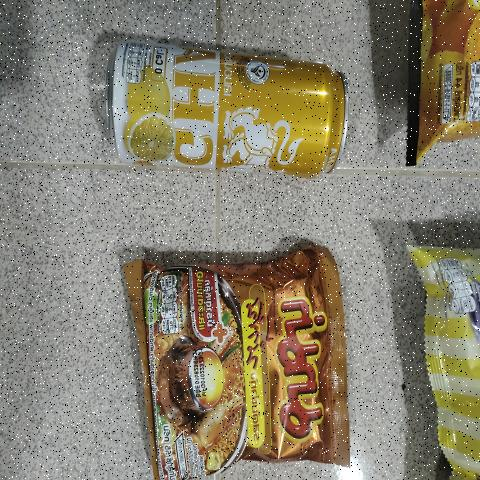mama: (143, 246, 336, 478)
singha_yellow: (101, 33, 358, 193)
